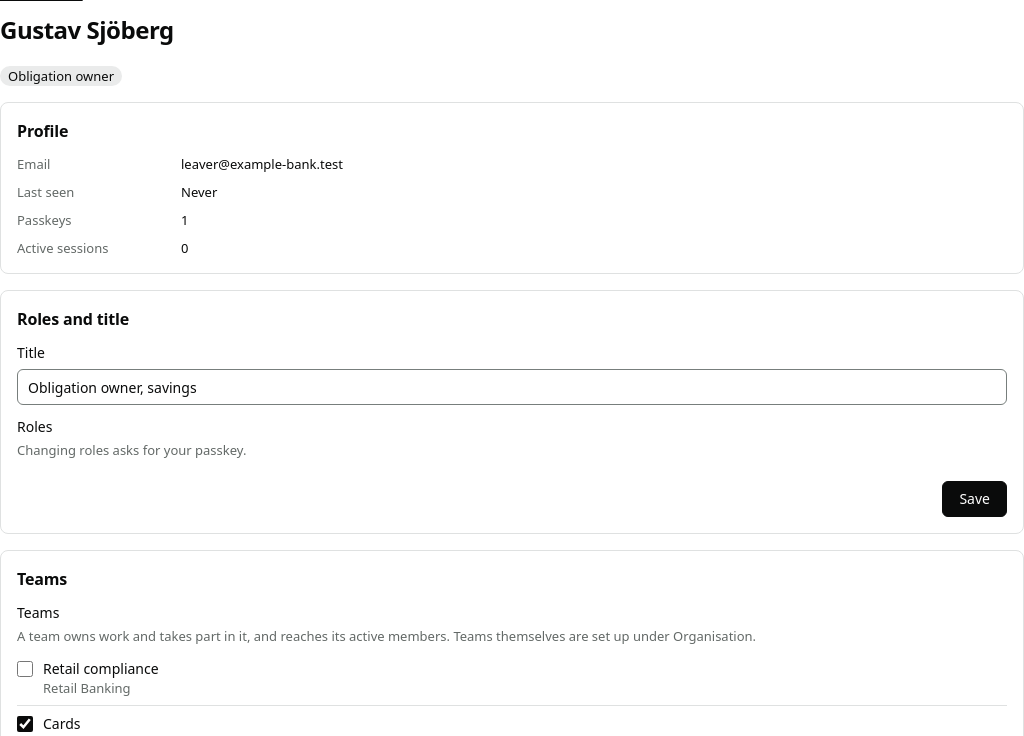
it: a member's teams › offers the active teams with their department, keeps no retired one, and saves the whole set
Expected: the heading "Gustav Sjöberg" is shown, [0,14,174,46]
Expected: the text "Retail Banking" is shown, [43,679,131,697]
Click the checkbox labelled "Retail compliance Retail Banking": coordinates (25, 669) [17,661,33,677]
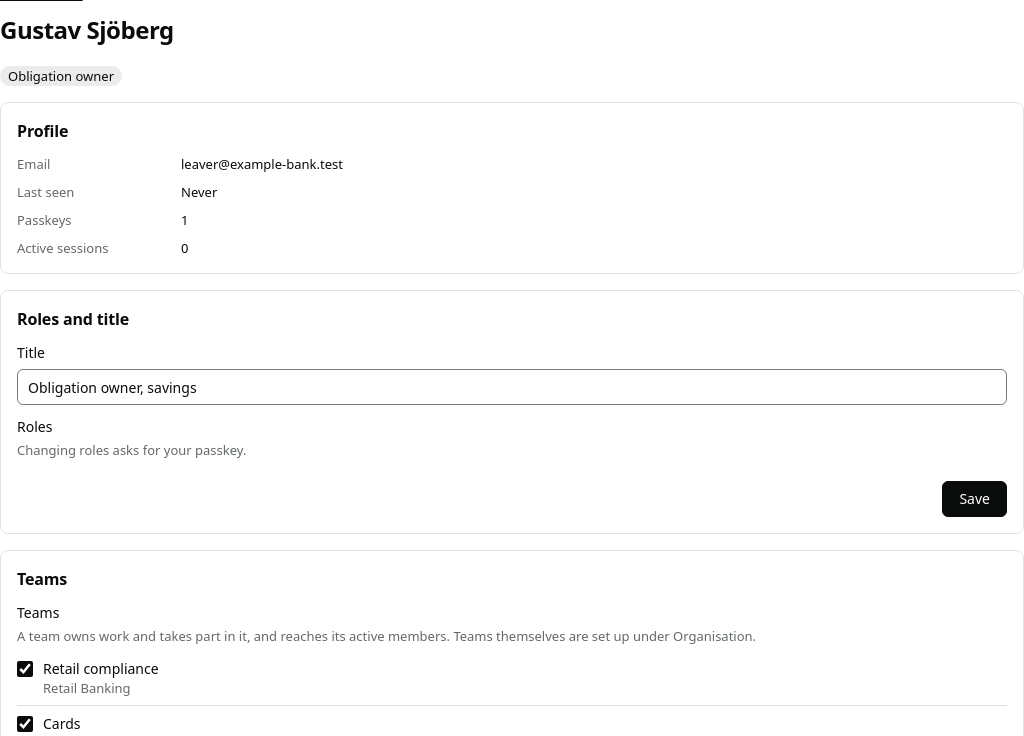
Click the checkbox labelled "Cards": coordinates (25, 724) [17,716,33,732]
(page scrolled)
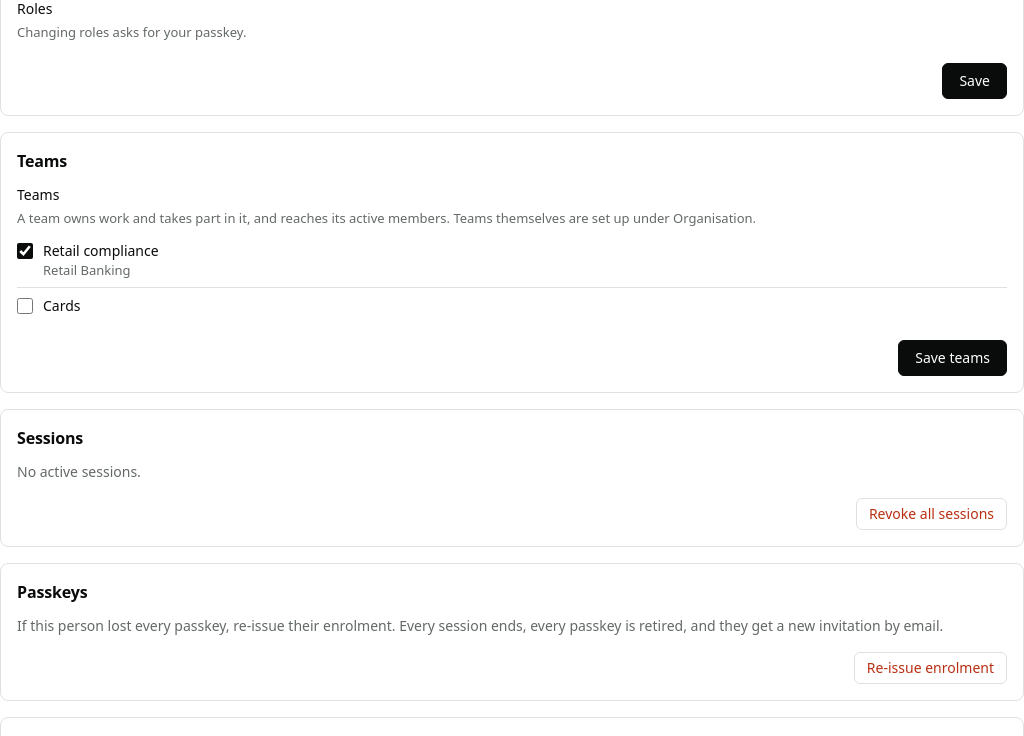
Click the button "Save teams": coordinates (953, 358) [898,340,1007,376]
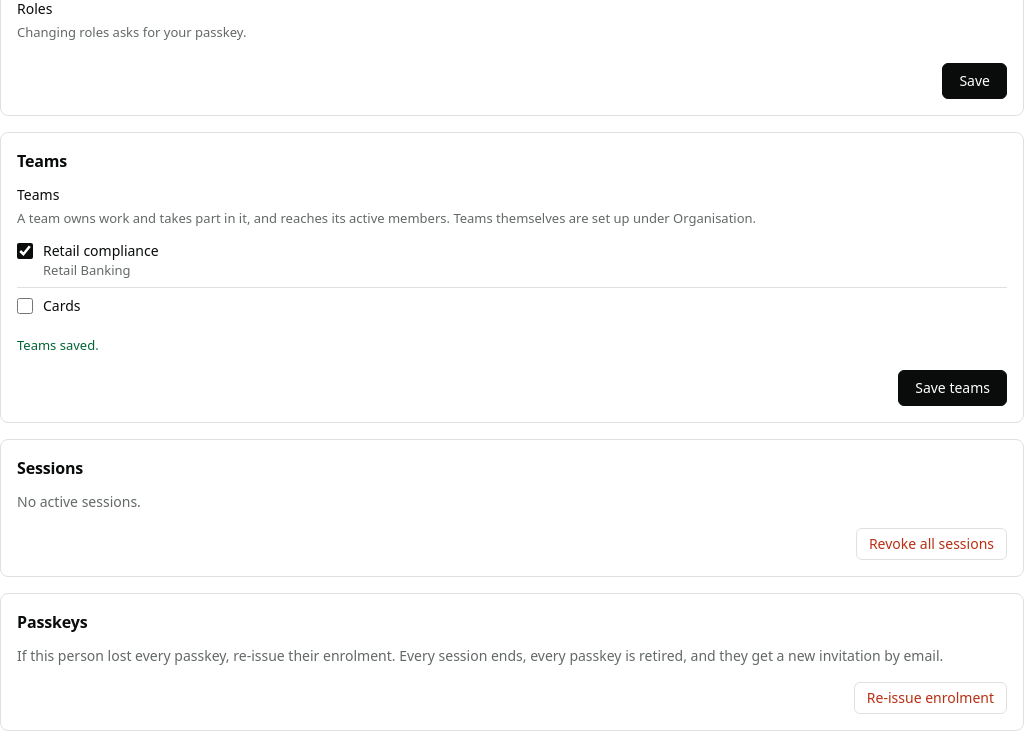
Now the text "Teams saved." is shown, box [17,336,99,354]
